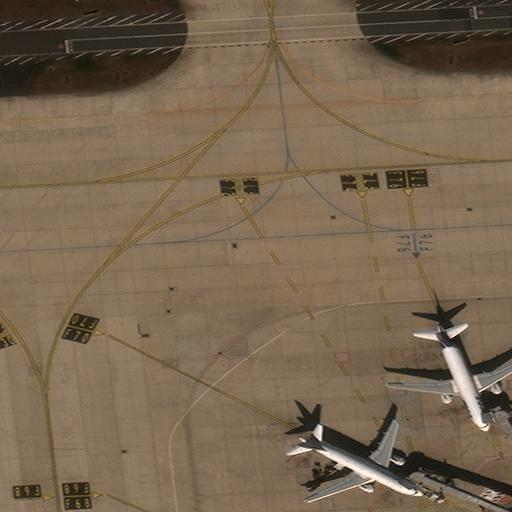Medium Civil Transport: (386, 325, 512, 431), (297, 423, 421, 502)
